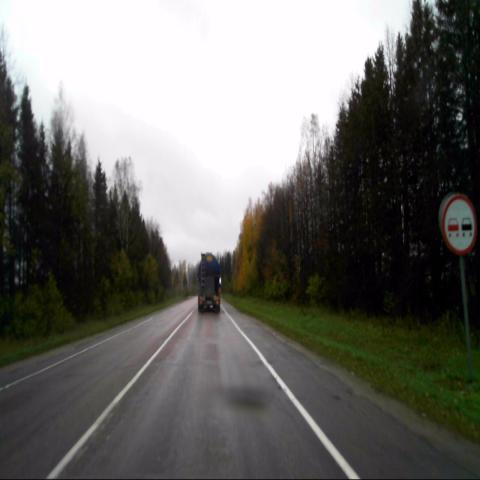3_20: (441, 193, 476, 256)
